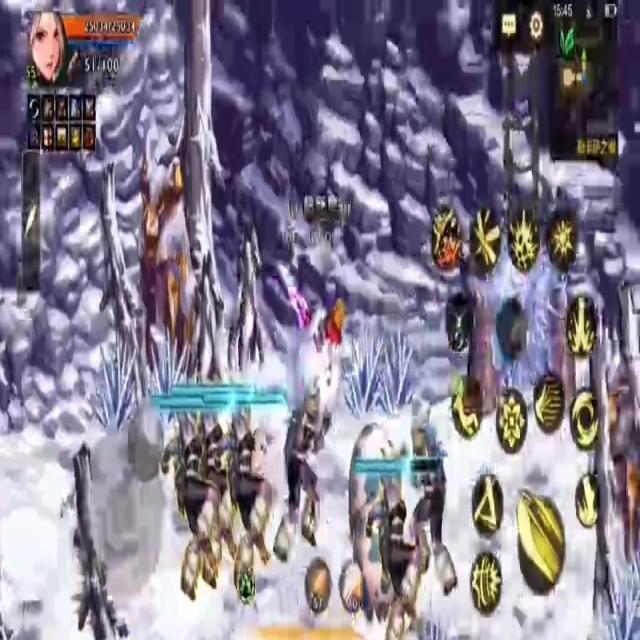player: (287, 269, 344, 426)
